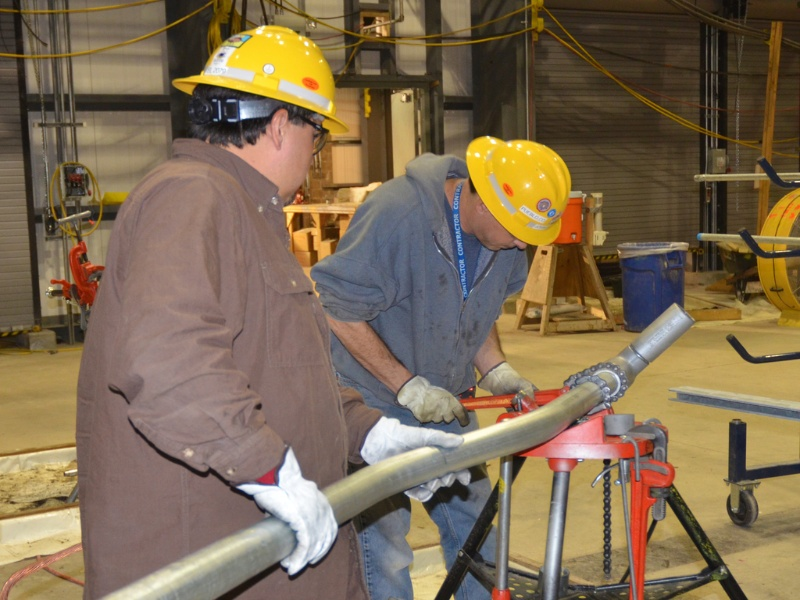Baret: (174, 24, 343, 124), (467, 135, 567, 245)
